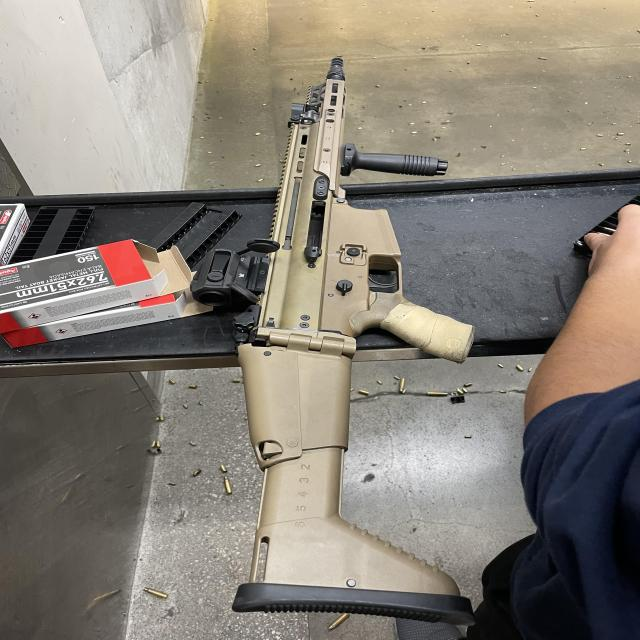Gun: (223, 26, 494, 640)
